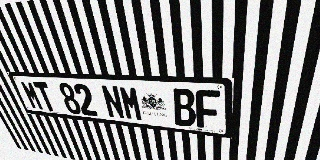2: (72, 83, 98, 116)
8: (57, 83, 82, 115)
B: (171, 88, 196, 127)
F: (195, 89, 220, 130)
M: (118, 86, 144, 121), (19, 81, 45, 110)
N: (100, 85, 126, 119)
T: (32, 81, 58, 112)
